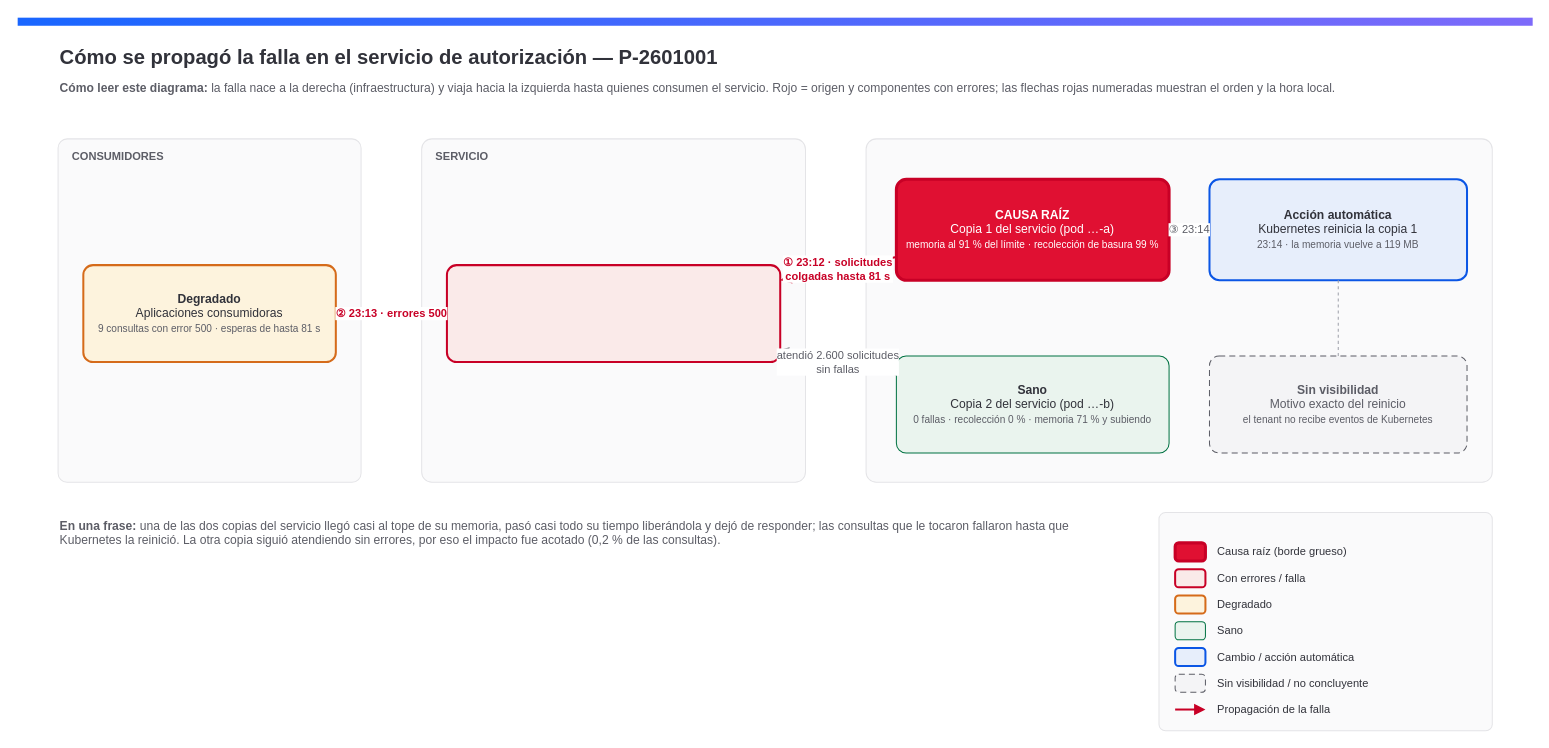
Image size: 1549x748. Some labels were removed from this diagram. The shapes that lost their labels are listed below. From the top down, each one's box as (x1, y1, x2, y2) in pixels, then its label:
(445, 264, 781, 363): Con errores Servicio de autorización auth-api · pico de fallas 9,4 % (23:13)
(865, 138, 1492, 482): INFRAESTRUCTURA (CONTENEDORES .NET EN KUBERNETES)
(1158, 512, 1492, 731): Leyenda
